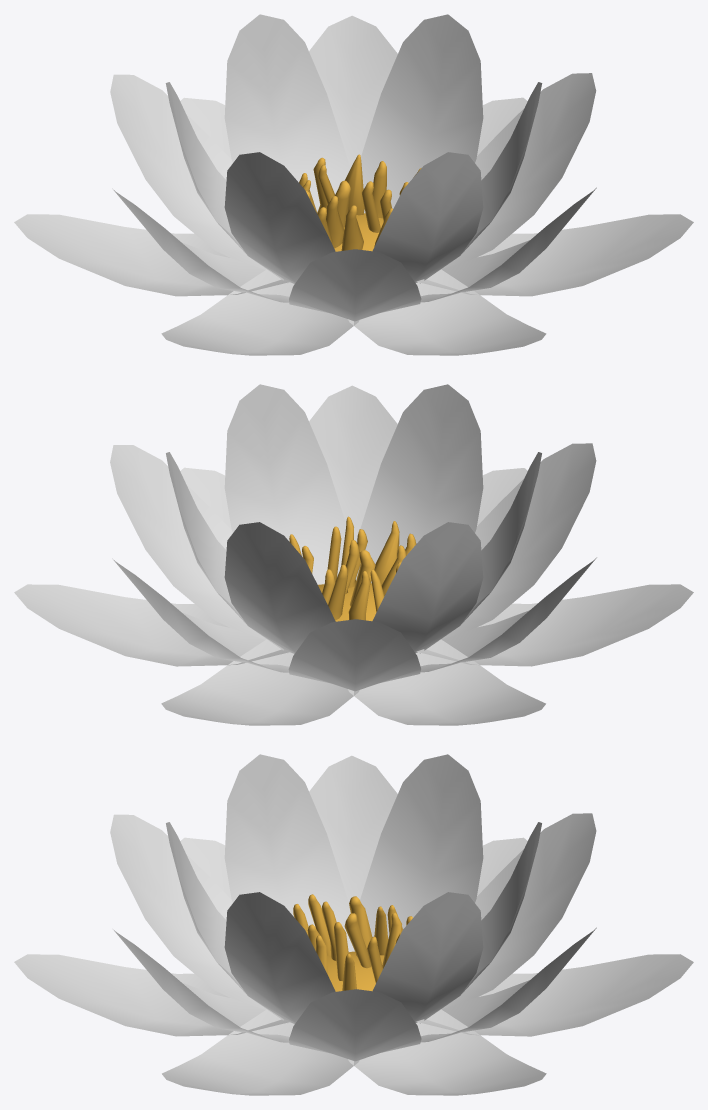
Rendered from FlowerLilyWhite.fbx.
The picture shows the model from 3 angles, top to bottom: view 1: azimuth 30°, elevation 25°; view 2: azimuth 150°, elevation 25°; view 3: azimuth 270°, elevation 25°; orthographic projection.
Visible parts, largest first — view 1: Icosphere.003, Icosphere.002; view 2: Icosphere.003, Icosphere.002; view 3: Icosphere.003, Icosphere.002.
Boxes of the visible parts, bbox=[...] form: Icosphere.003: bbox=[14, 14, 693, 355]; Icosphere.002: bbox=[299, 154, 421, 251]; Icosphere.003: bbox=[14, 384, 693, 725]; Icosphere.002: bbox=[289, 516, 416, 621]; Icosphere.003: bbox=[14, 754, 693, 1095]; Icosphere.002: bbox=[293, 894, 412, 991].
Bounding box in the file's own units: 610 × 237 × 698.
